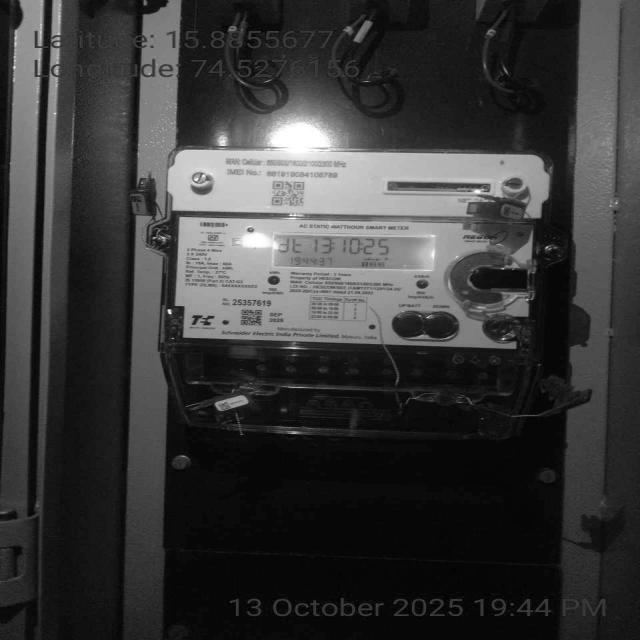meter: (169, 150, 554, 350)
